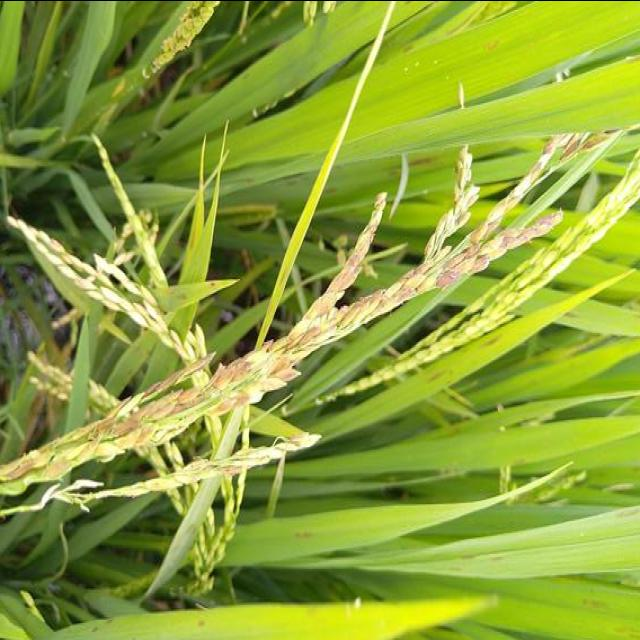Panicle Blight: (344, 138, 561, 332), (306, 192, 386, 317), (86, 392, 203, 440), (140, 350, 215, 398), (270, 323, 319, 361), (561, 129, 619, 158), (210, 356, 256, 389), (113, 425, 154, 451), (206, 392, 249, 413), (268, 355, 301, 382), (6, 454, 39, 479), (283, 433, 319, 446), (214, 463, 248, 475), (45, 460, 69, 475), (39, 437, 60, 454), (261, 338, 273, 349)
